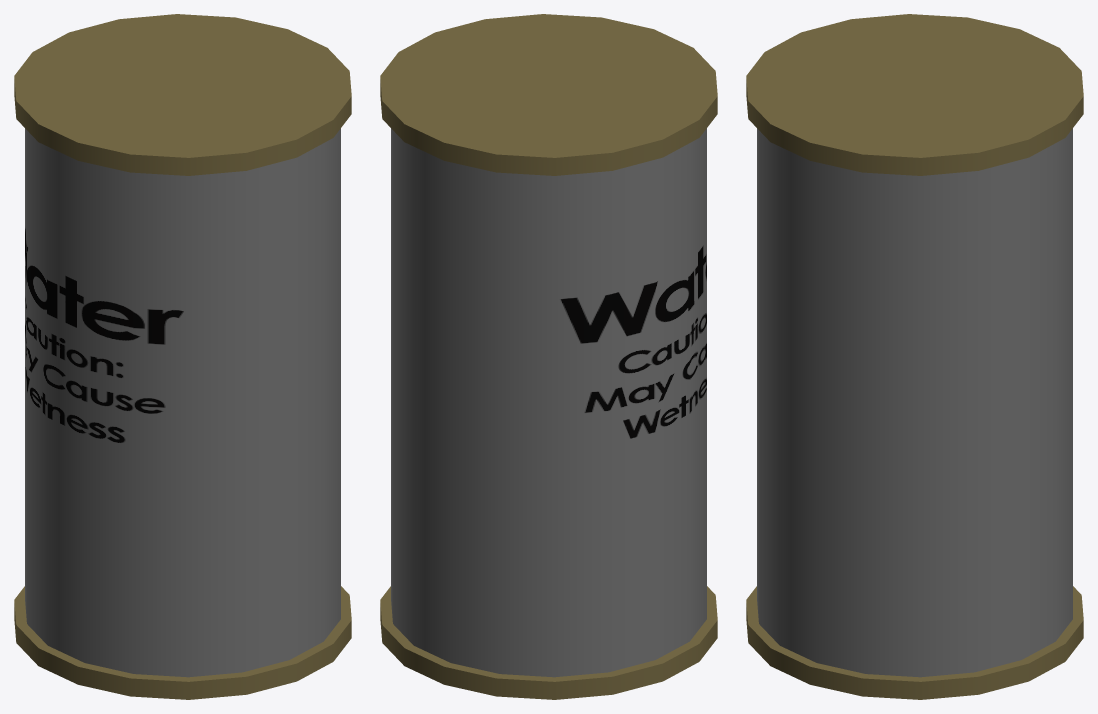
Rendered from rw_WATER.FBX.
3 views of the same model, side by side, from view 1: azimuth 30°, elevation 25°; view 2: azimuth 150°, elevation 25°; view 3: azimuth 270°, elevation 25° (orthographic).
Parts seen in each view (by area): view 1: Cylinder010; view 2: Cylinder010; view 3: Cylinder010.
Part boxes in pixels (x1=…): Cylinder010: x1=14, y1=14, x2=351, y2=699; Cylinder010: x1=380, y1=14, x2=717, y2=699; Cylinder010: x1=746, y1=14, x2=1083, y2=699.
Bounding box in the file's own units: 10.41 × 18.27 × 10.31.
Materials: 1 (1 with a texture image).
